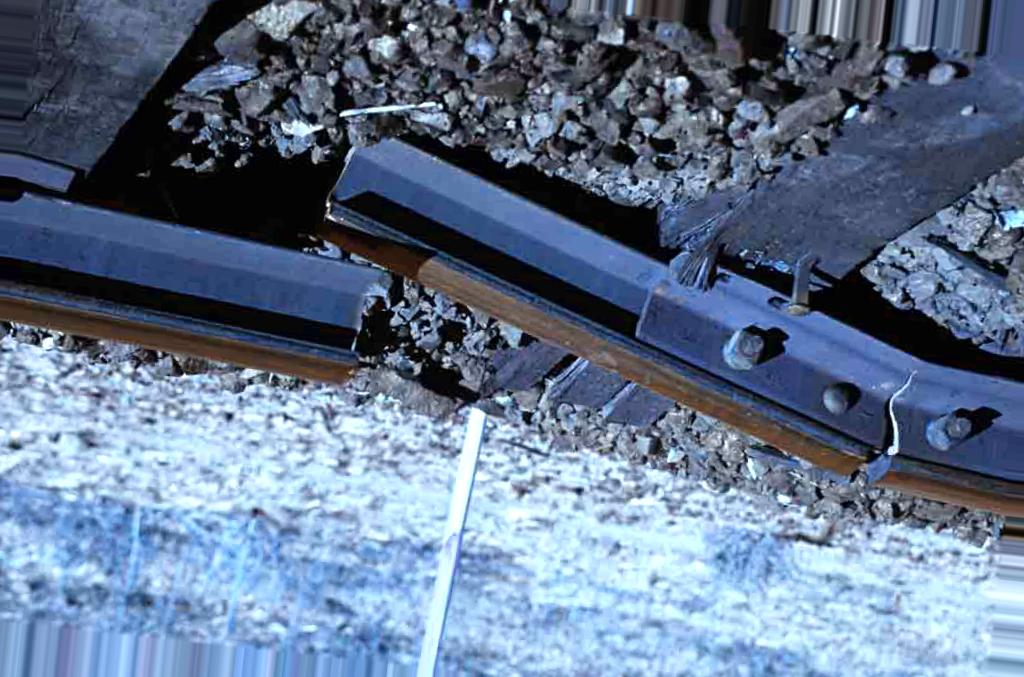tracks_fault: (178, 127, 979, 493), (288, 84, 470, 419), (852, 299, 945, 558)
